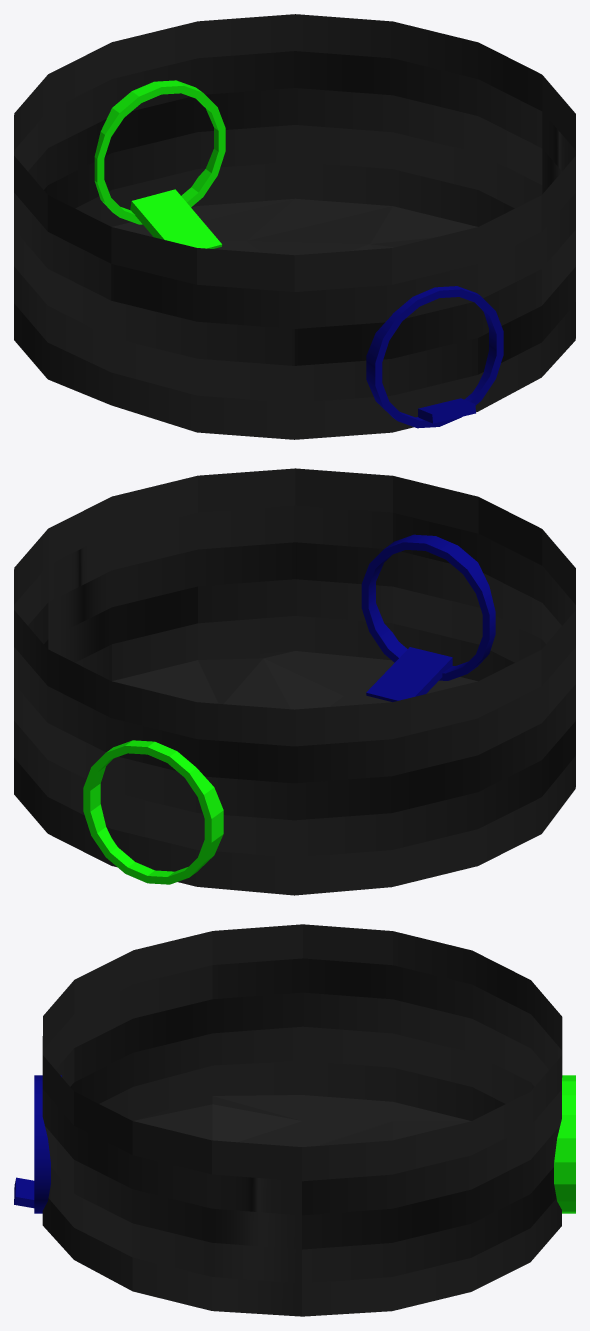
The model's file is Arena.FBX.
3 renders of one model, top to bottom at view 1: azimuth 30°, elevation 25°; view 2: azimuth 150°, elevation 25°; view 3: azimuth 270°, elevation 25°, orthographic. The views are drawn at different scales.
Parts seen in each view (by area): view 1: Cylinder001, Tube002, Tube005, Box005, Box004; view 2: Cylinder001, Tube005, Tube002, Box004; view 3: Cylinder001, Tube005, Tube002, Box004.
Boxes of the visible parts, left/top/right/bottom form: Cylinder001: left=14, top=14, right=575, bottom=439; Tube002: left=366, top=286, right=503, bottom=428; Tube005: left=94, top=80, right=225, bottom=224; Box005: left=130, top=189, right=222, bottom=248; Box004: left=418, top=398, right=475, bottom=423; Cylinder001: left=14, top=468, right=575, bottom=895; Tube005: left=83, top=740, right=223, bottom=884; Tube002: left=361, top=534, right=495, bottom=680; Box004: left=366, top=647, right=452, bottom=702; Cylinder001: left=42, top=924, right=562, bottom=1316; Tube005: left=554, top=1075, right=575, bottom=1213; Tube002: left=34, top=1075, right=61, bottom=1213; Box004: left=14, top=1177, right=34, bottom=1208.
Bounding box in the file's own units: 21372 × 22777 × 8118.
